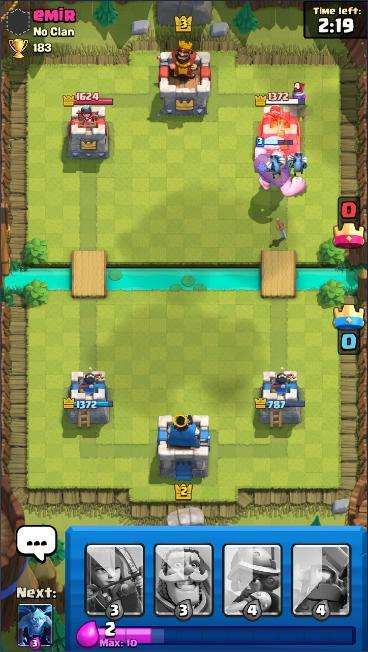ally_giant: (250, 135, 312, 201)
ally_minion: (284, 147, 314, 182), (263, 150, 289, 180)
enemy_musketeer: (290, 81, 311, 121)
